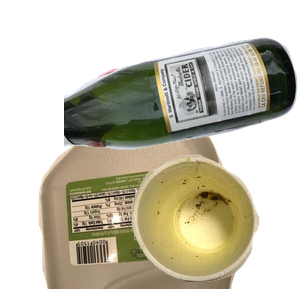glass: (64, 35, 300, 181)
metal: (82, 66, 270, 246)
plastic: (36, 120, 265, 300)
trash: (129, 152, 300, 300)
